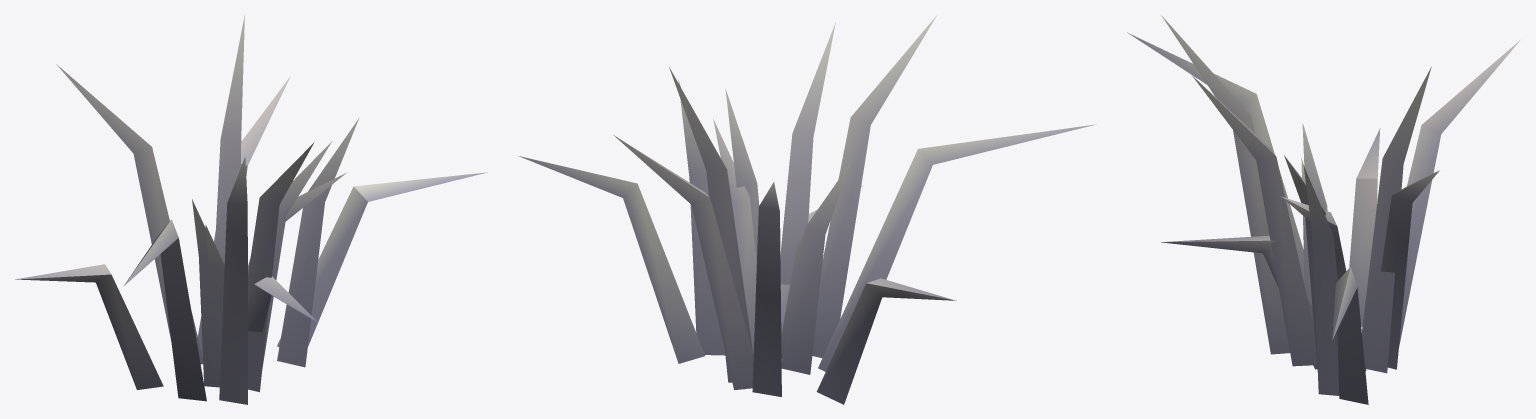
File: grass.glb
The picture shows the model from 3 angles, left to right: view 1: azimuth 30°, elevation 25°; view 2: azimuth 150°, elevation 25°; view 3: azimuth 270°, elevation 25°; orthographic projection. The views are drawn at different scales.
Parts seen in each view (by area): view 1: grass; view 2: grass; view 3: grass.
Boxes of the visible parts, <box> form: grass: <box>15,15,487,404</box>; grass: <box>518,15,1096,404</box>; grass: <box>1127,15,1520,404</box>.
Bounding box in the file's own units: 0.7848 × 0.5149 × 0.5581.
